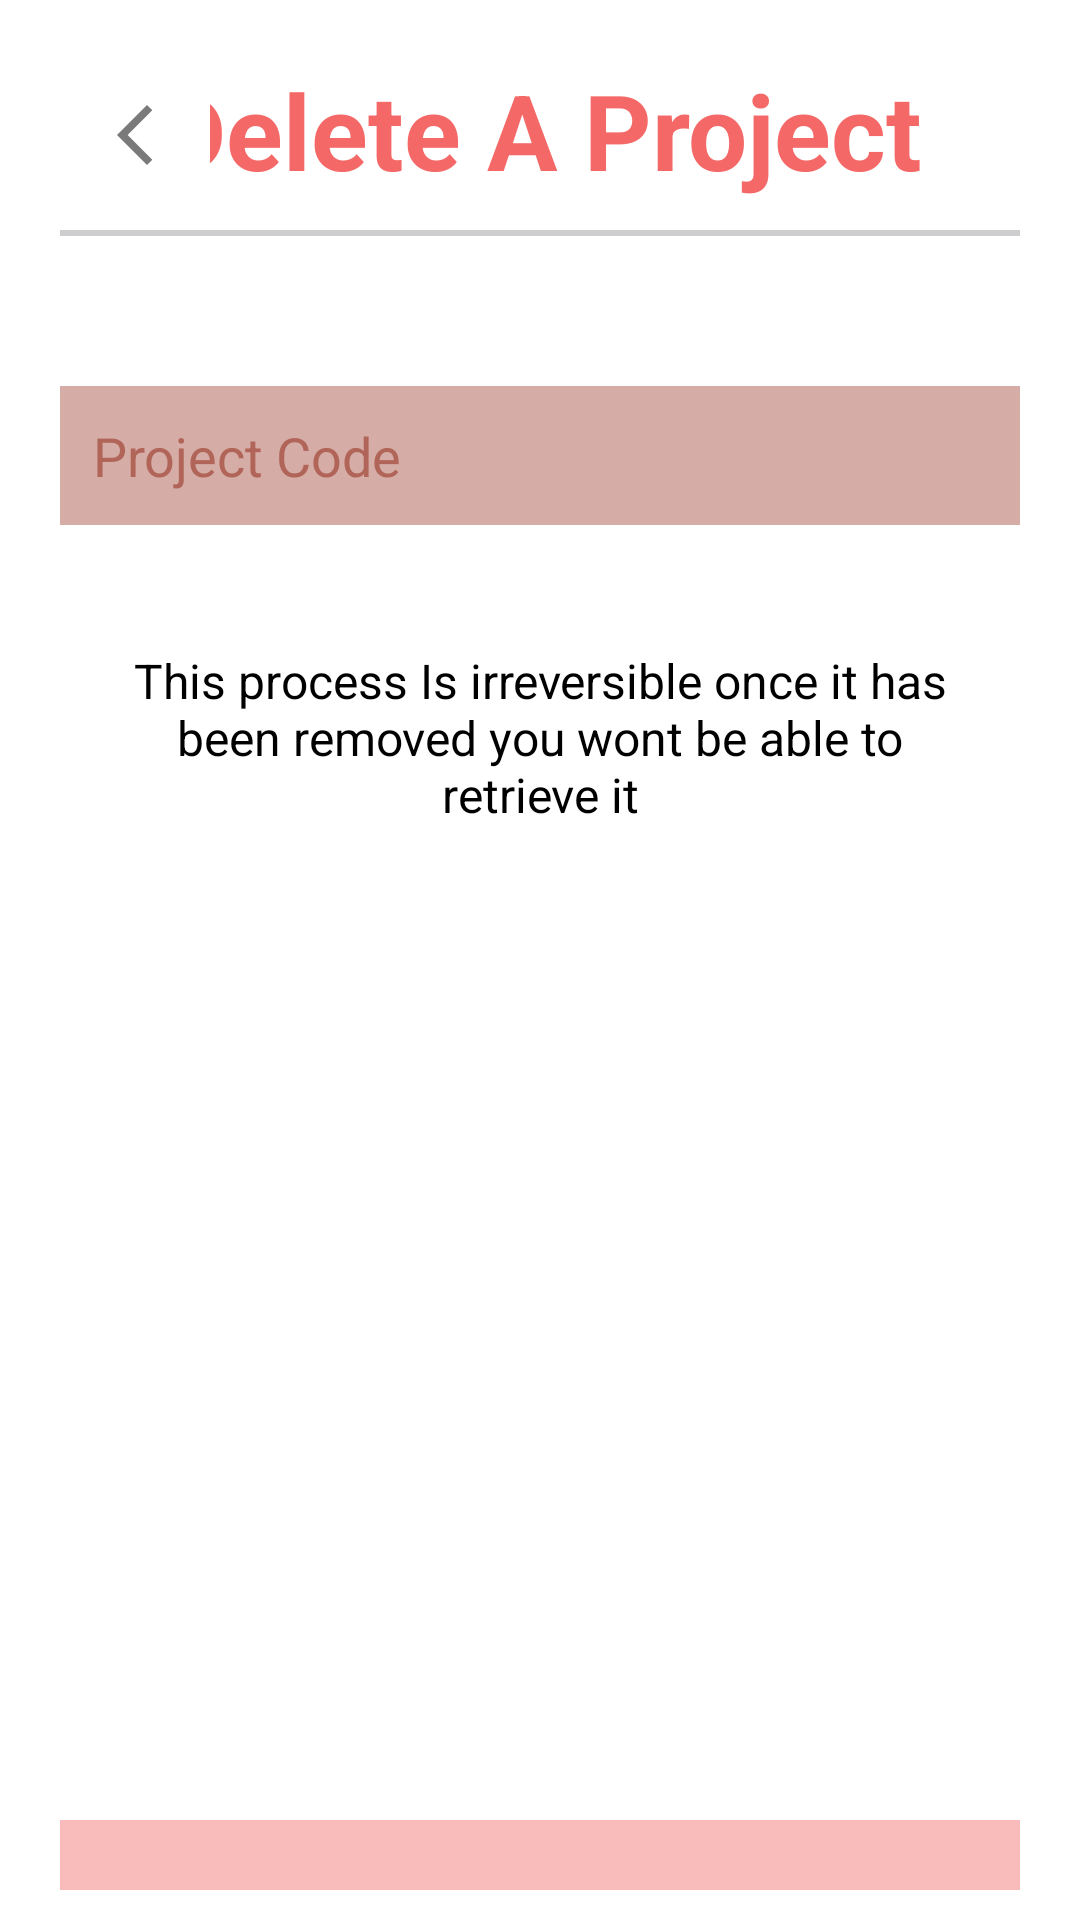

Locate icon controls on the screen. Image size 1080px x 1920px, boxes as [x1,y1,x2,y2].
arrow back: [117,105,152,165]
